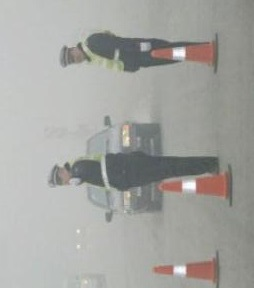person: (53, 31, 211, 69), (42, 153, 222, 183)
